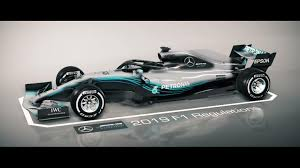FormulaOneCar: (19, 42, 280, 127)
